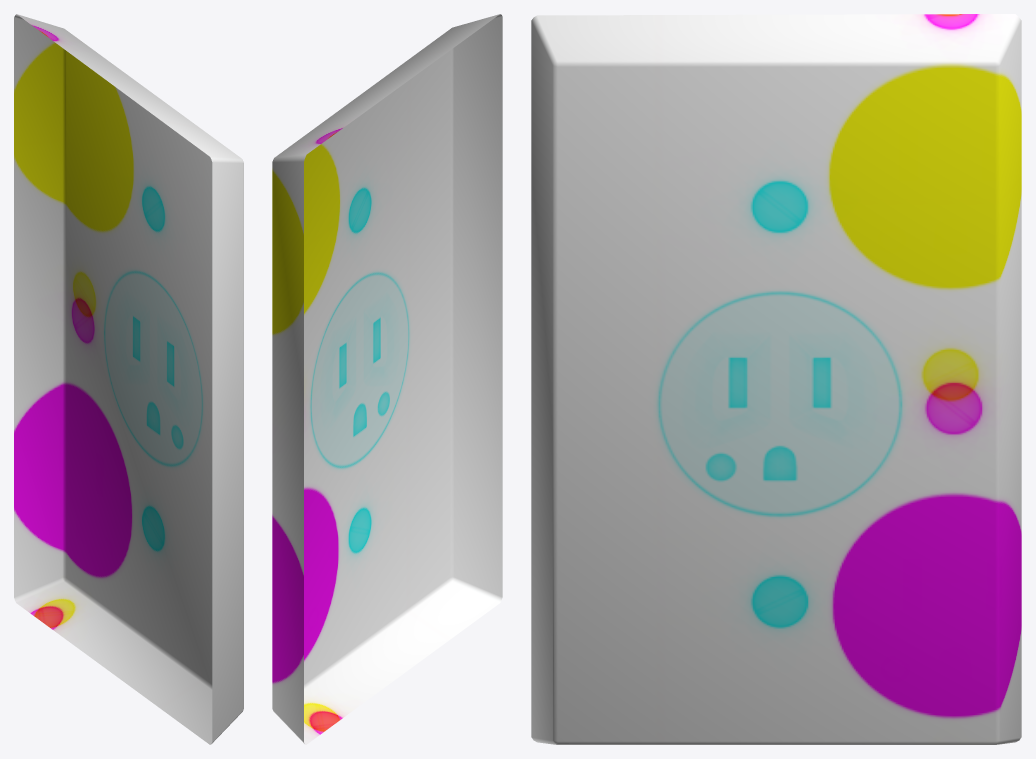
The model's file is SwitchType1.fbx.
3 views of the same model, side by side, from view 1: azimuth 30°, elevation 25°; view 2: azimuth 150°, elevation 25°; view 3: azimuth 270°, elevation 25° (orthographic). The views are drawn at different scales.
Parts seen in each view (by area): view 1: LLL; view 2: LLL; view 3: LLL.
Boxes of the visible parts, box(x1,y1,x2,y2) form: LLL: box(14, 14, 243, 744); LLL: box(272, 14, 502, 744); LLL: box(531, 14, 1021, 744).
Bounding box in the file's own units: 2.11 × 28.33 × 17.28.
